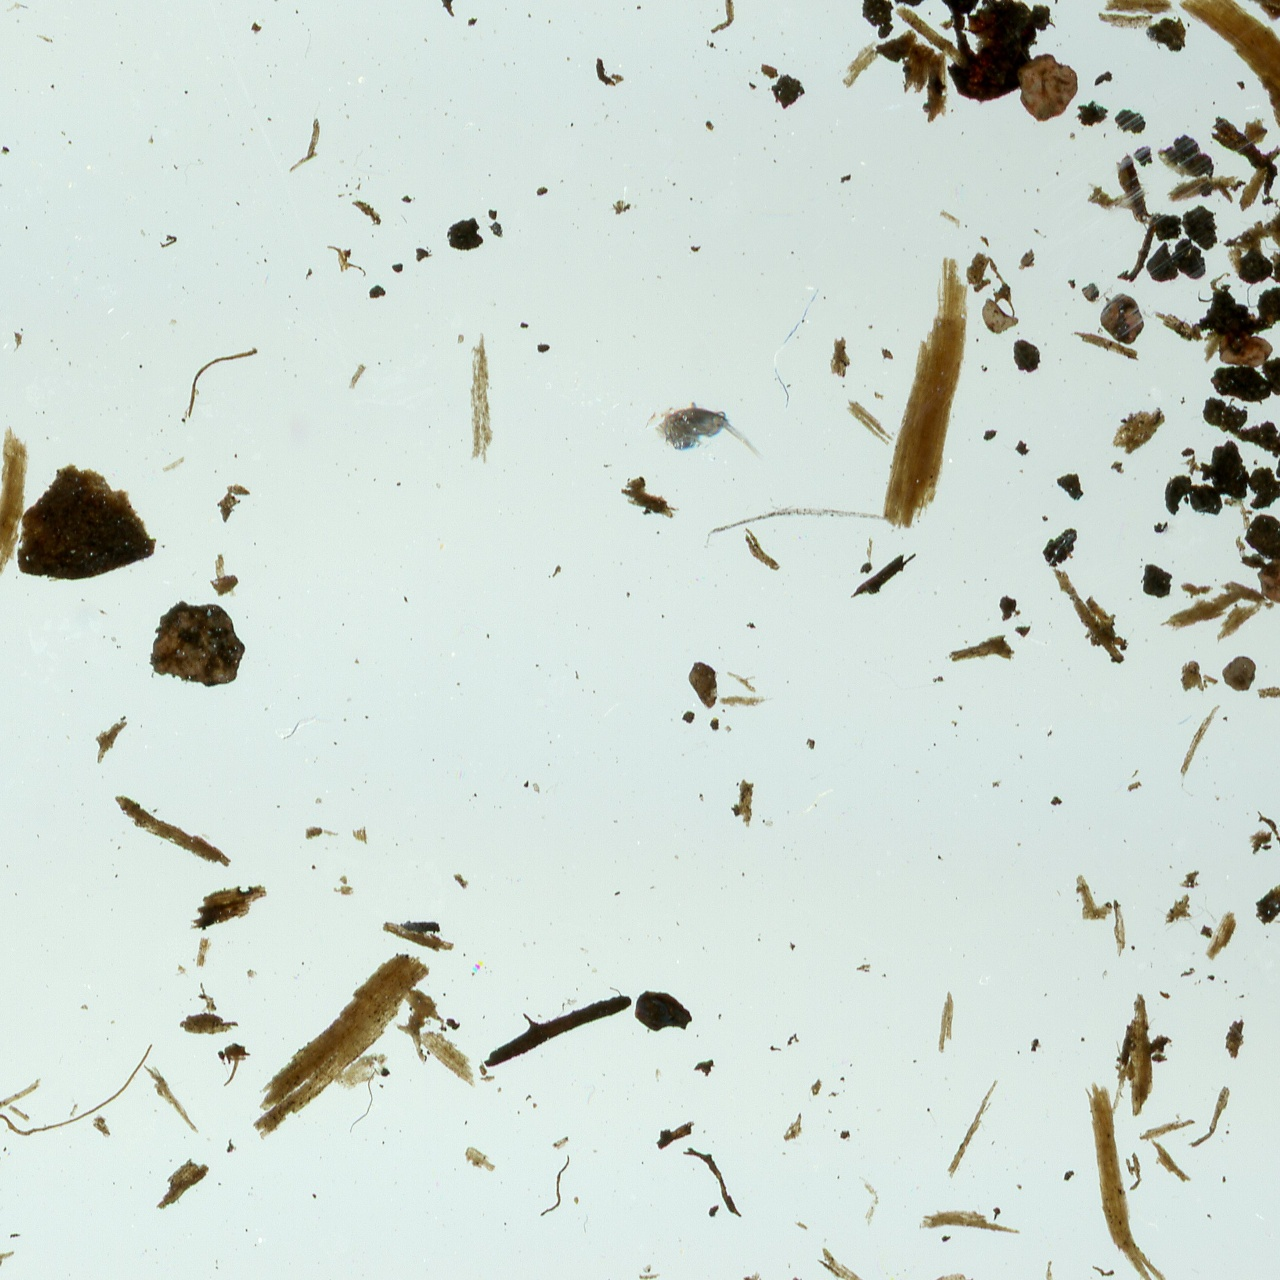arthropod: (644, 390, 788, 477)
